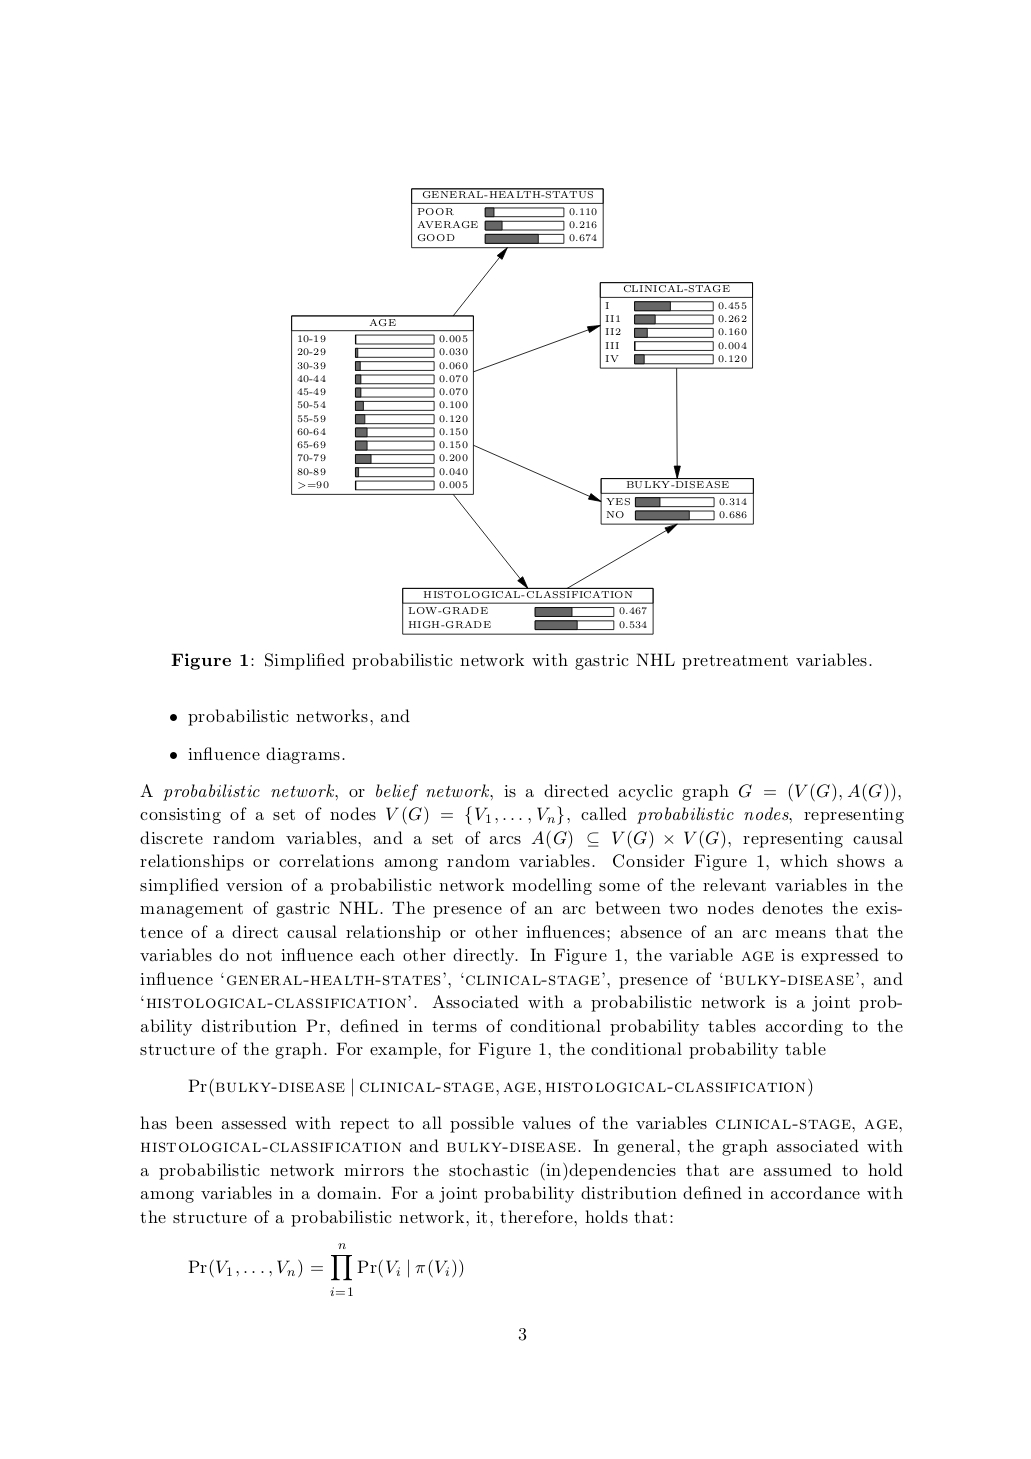figure: (291, 187, 753, 635)
formula: (187, 1243, 463, 1295)
